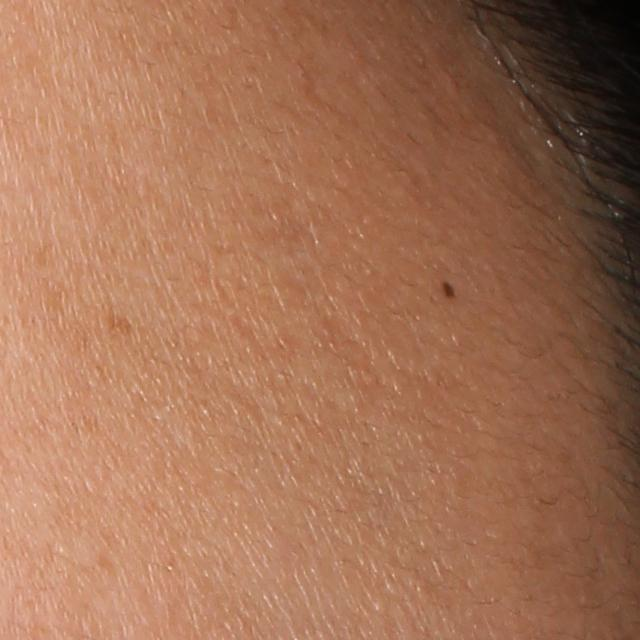nevus: (434, 275, 459, 307)
